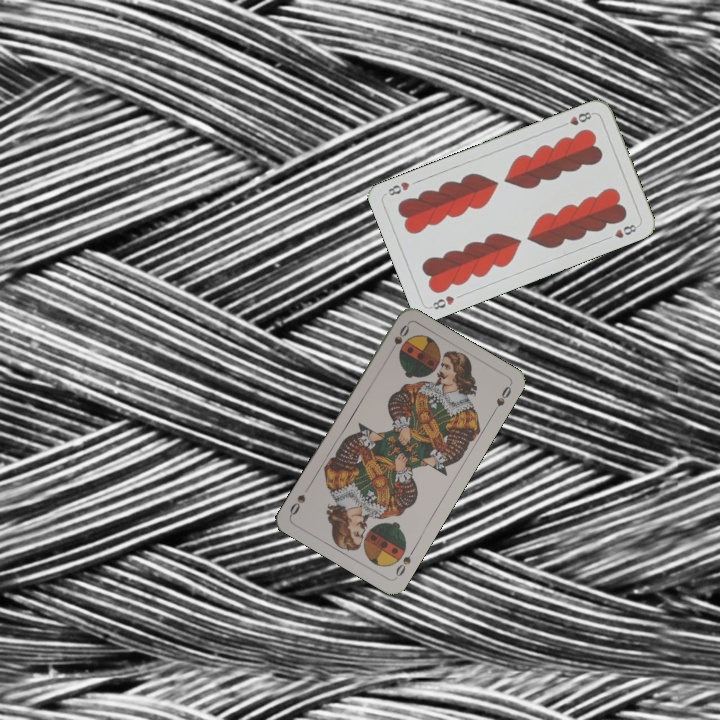H8: (557, 108, 596, 130), (426, 292, 457, 312)
SO: (385, 320, 412, 357), (391, 544, 418, 580)
